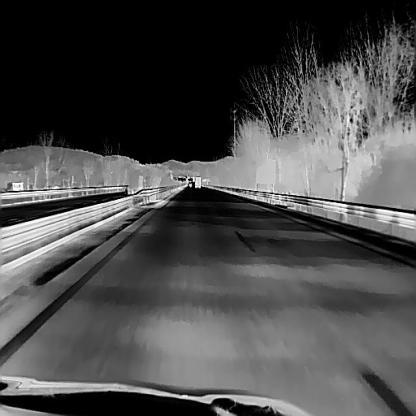car: (194, 175, 201, 187)
